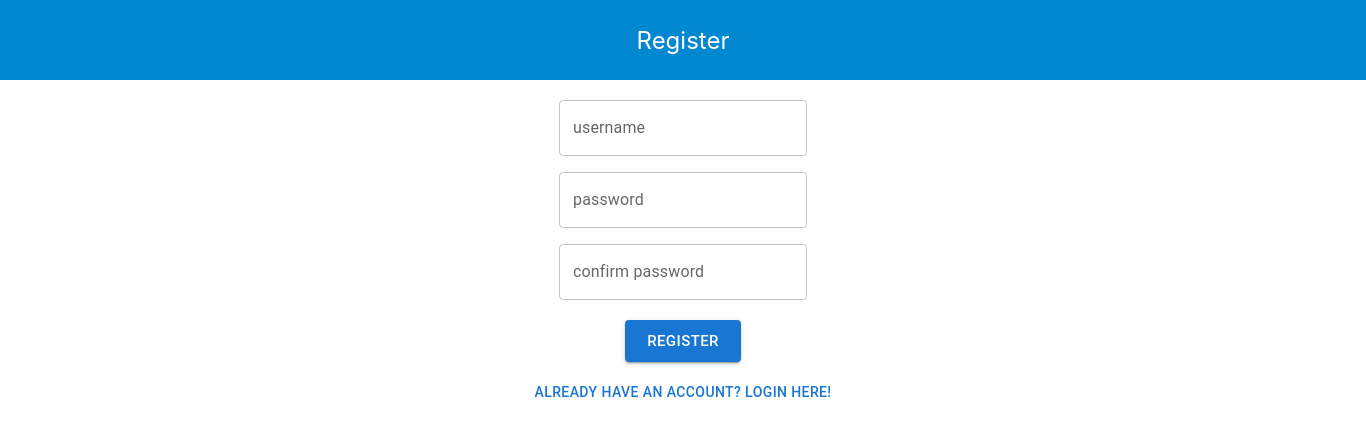
it: Sign up page › should handle unsuccessful register click when mismatching passwords are provided
The width and height of the screenshot is (1366, 437).
In the password field with test id "password-textfield": (683,200) [559,172,807,228], type "some-mock-password"
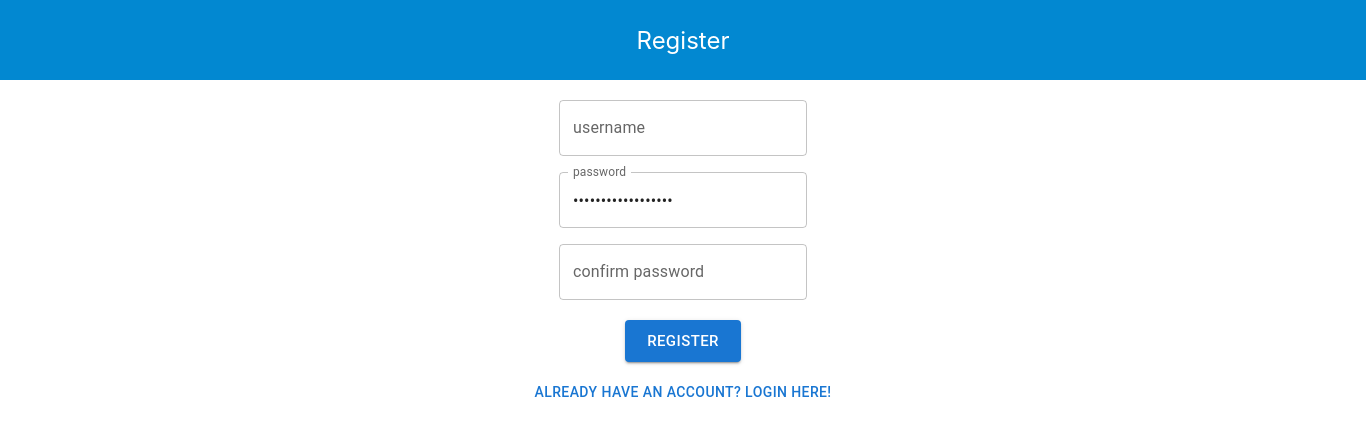
In the password field with test id "confirm-password-textfield": (683,272) [559,244,807,300], type "some-mock-confirm-password"
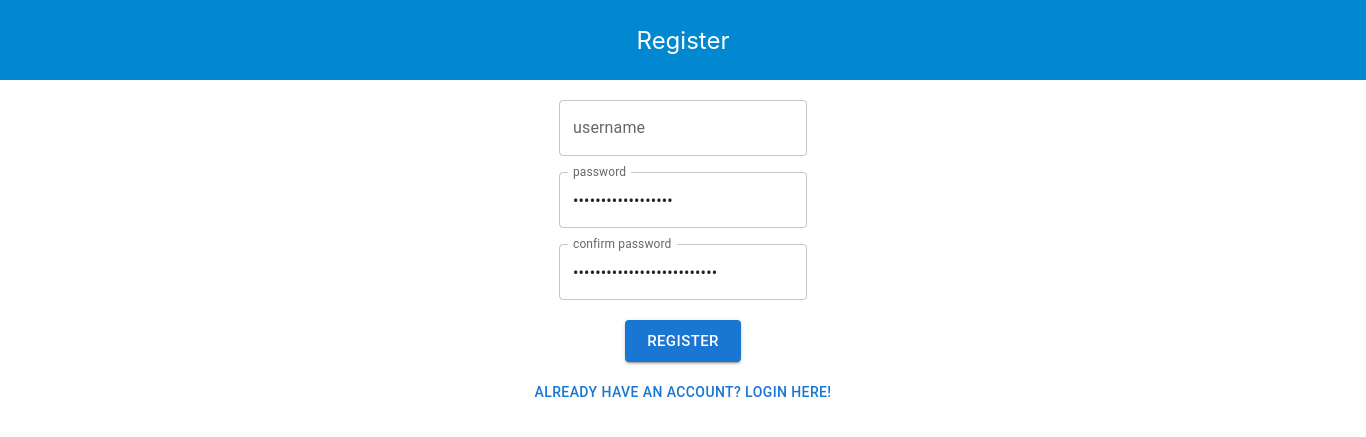
Click the button "Register": (683,341) [625,320,741,362]
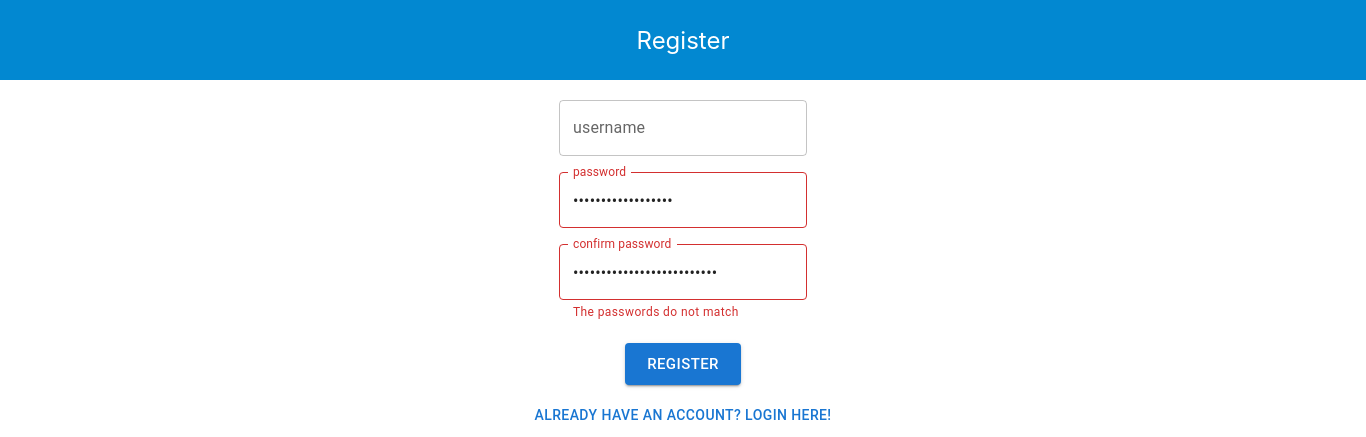
Check: the text "The passwords do not match" is shown, box [573,305,739,319]
